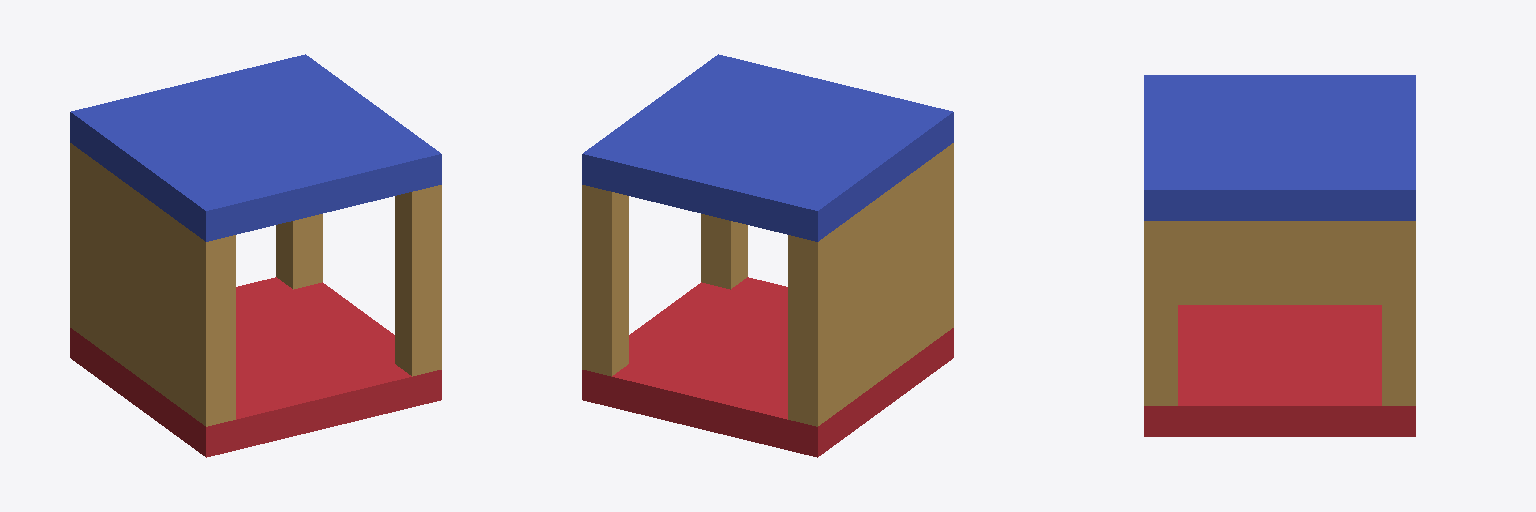
The model's file is PieceT.obj.
3 views of the same model, side by side, from view 1: azimuth 30°, elevation 25°; view 2: azimuth 150°, elevation 25°; view 3: azimuth 270°, elevation 25° (orthographic).
Parts seen in each view (by area): view 1: T-Piece_Cube.005; view 2: T-Piece_Cube.005; view 3: T-Piece_Cube.005.
Boxes of the visible parts, box(x1,y1,x2,y2) form: T-Piece_Cube.005: box(70, 54, 441, 457); T-Piece_Cube.005: box(582, 54, 953, 457); T-Piece_Cube.005: box(1144, 75, 1415, 436).
Bounding box in the file's own units: 2 × 2 × 2.